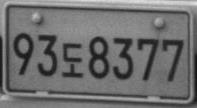3: (112, 36, 134, 80), (37, 34, 58, 76)
7: (136, 37, 159, 80), (161, 39, 184, 81)
8: (88, 35, 110, 79)
9: (12, 32, 34, 75)
도: (61, 42, 83, 77)
